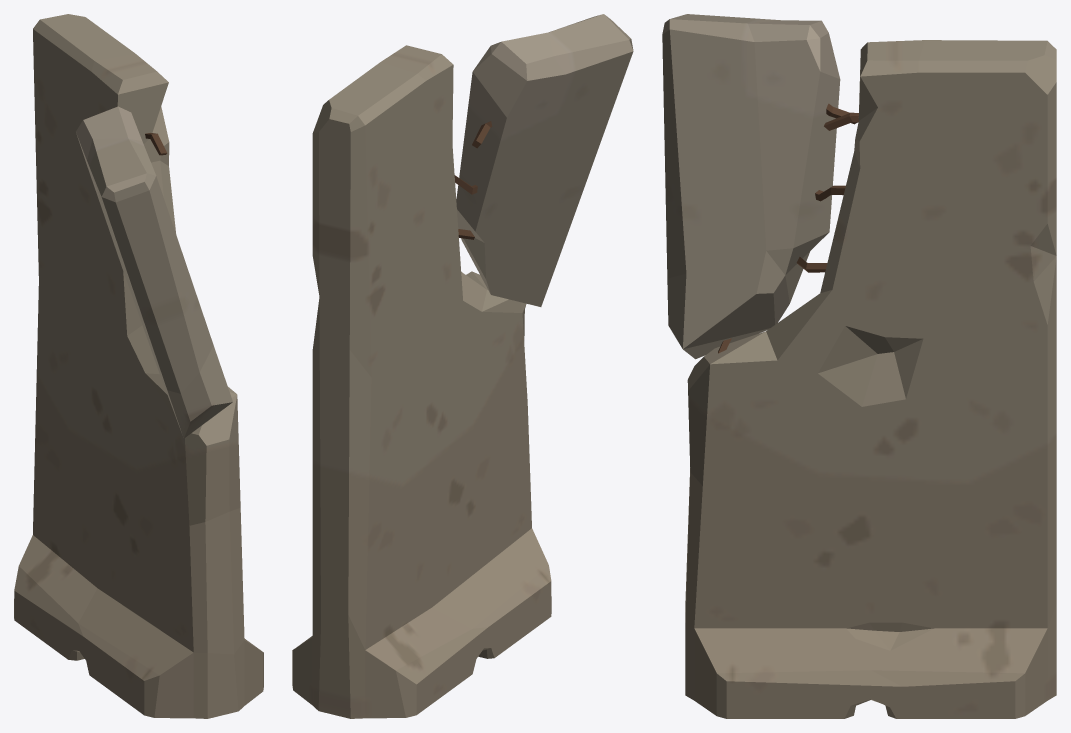
File: SM_Prop_Barrier_Tall_04.glb
3 renders of one model, left to right at view 1: azimuth 30°, elevation 25°; view 2: azimuth 150°, elevation 25°; view 3: azimuth 270°, elevation 25°, orthographic. The views are drawn at different scales.
Visible parts, largest first — view 1: SM_Prop_Barrier_Tall_04; view 2: SM_Prop_Barrier_Tall_04; view 3: SM_Prop_Barrier_Tall_04.
Part boxes in pixels (<box>): SM_Prop_Barrier_Tall_04: <box>14,14,263,718</box>; SM_Prop_Barrier_Tall_04: <box>292,14,633,718</box>; SM_Prop_Barrier_Tall_04: <box>662,14,1056,718</box>.
Size of the model in its own units: 1.06 by 3.26 by 1.83.
Materials: 1 (1 with a texture image).
